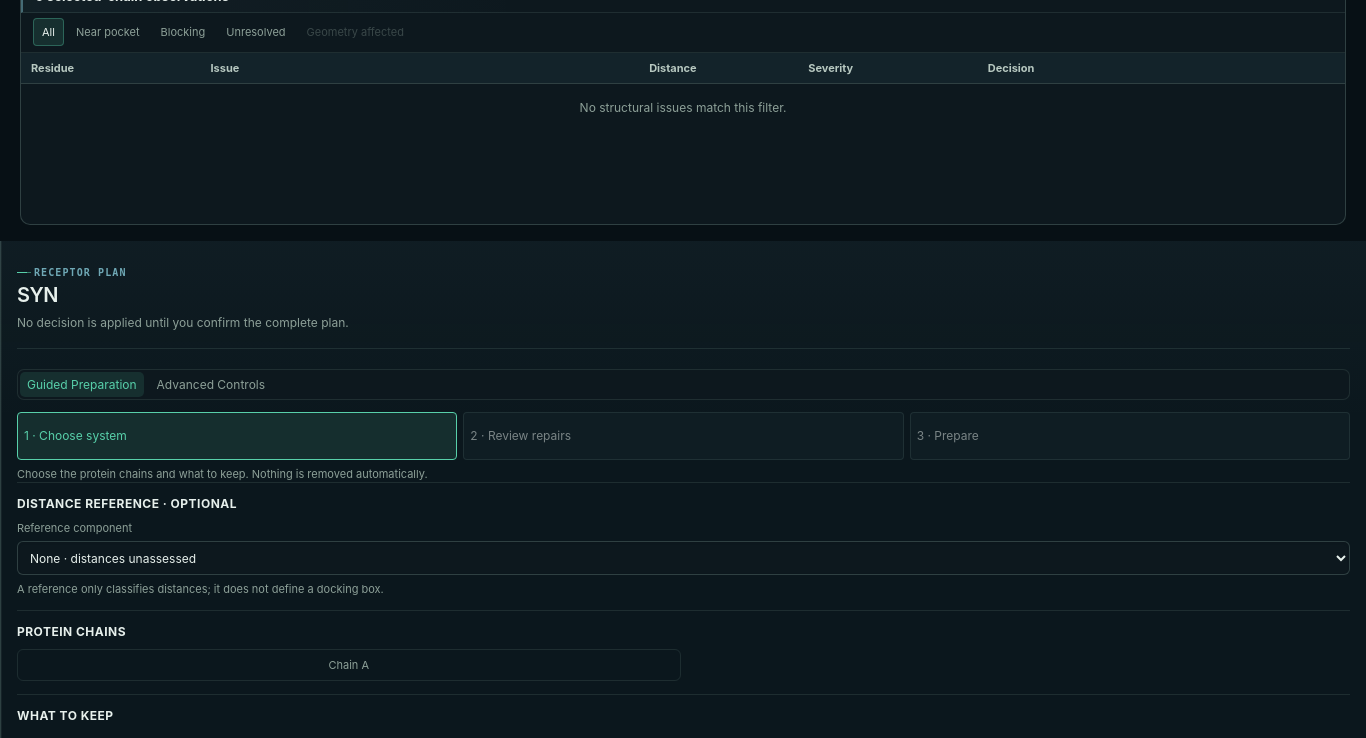
Test: explains incompatible observed anchors without offering clash relief as a bond repair
(page scrolled)
Click the button "Advanced controls" at (211, 384), box [150,372,272,397]
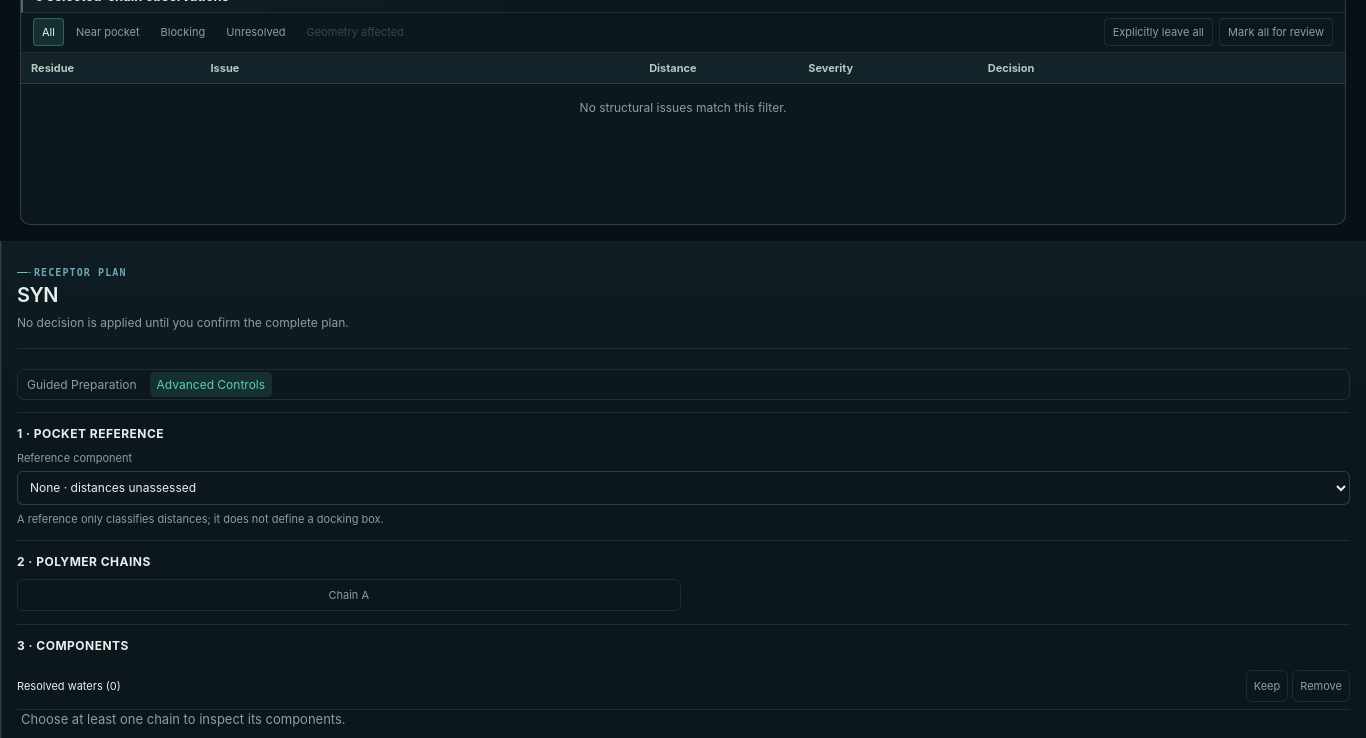
Click the button "Chain A" at (349, 595), box [17,579,680,611]
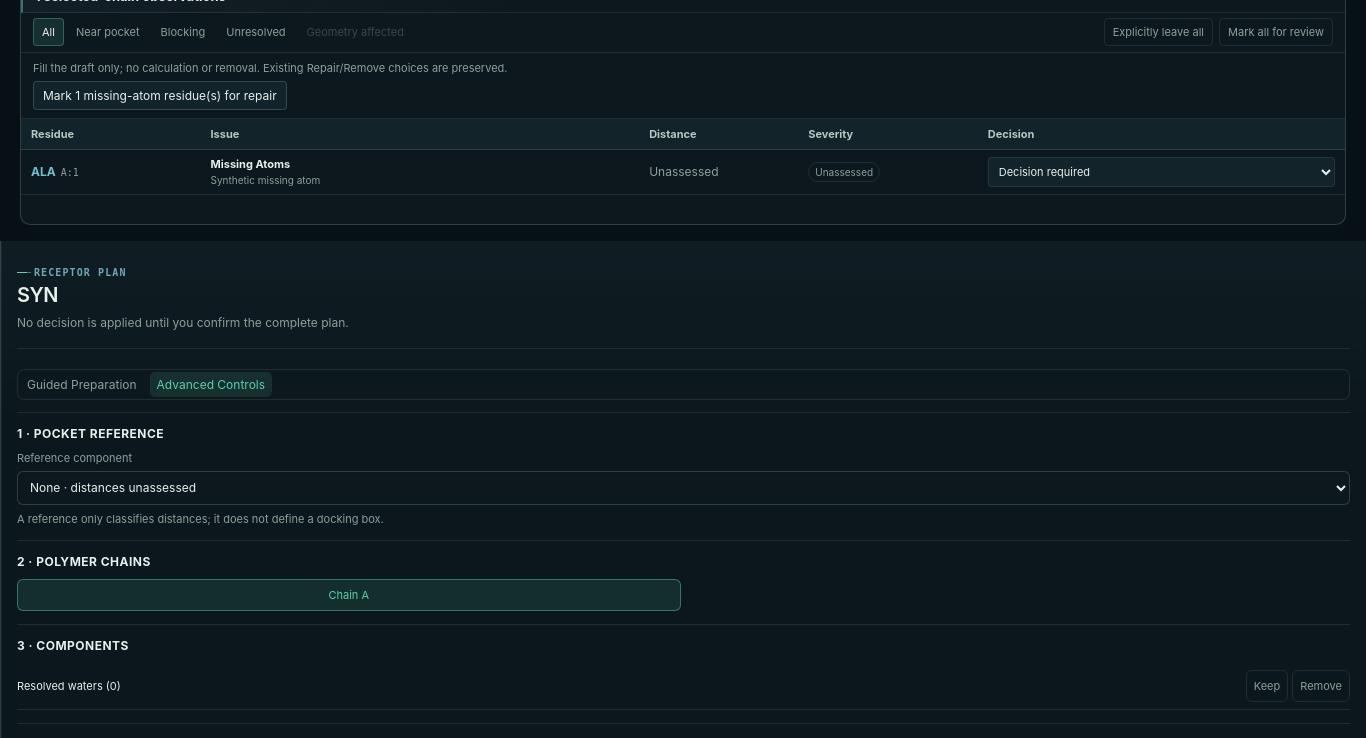
Click the button "Remove" at (1321, 686), box [1292,670,1350,702]
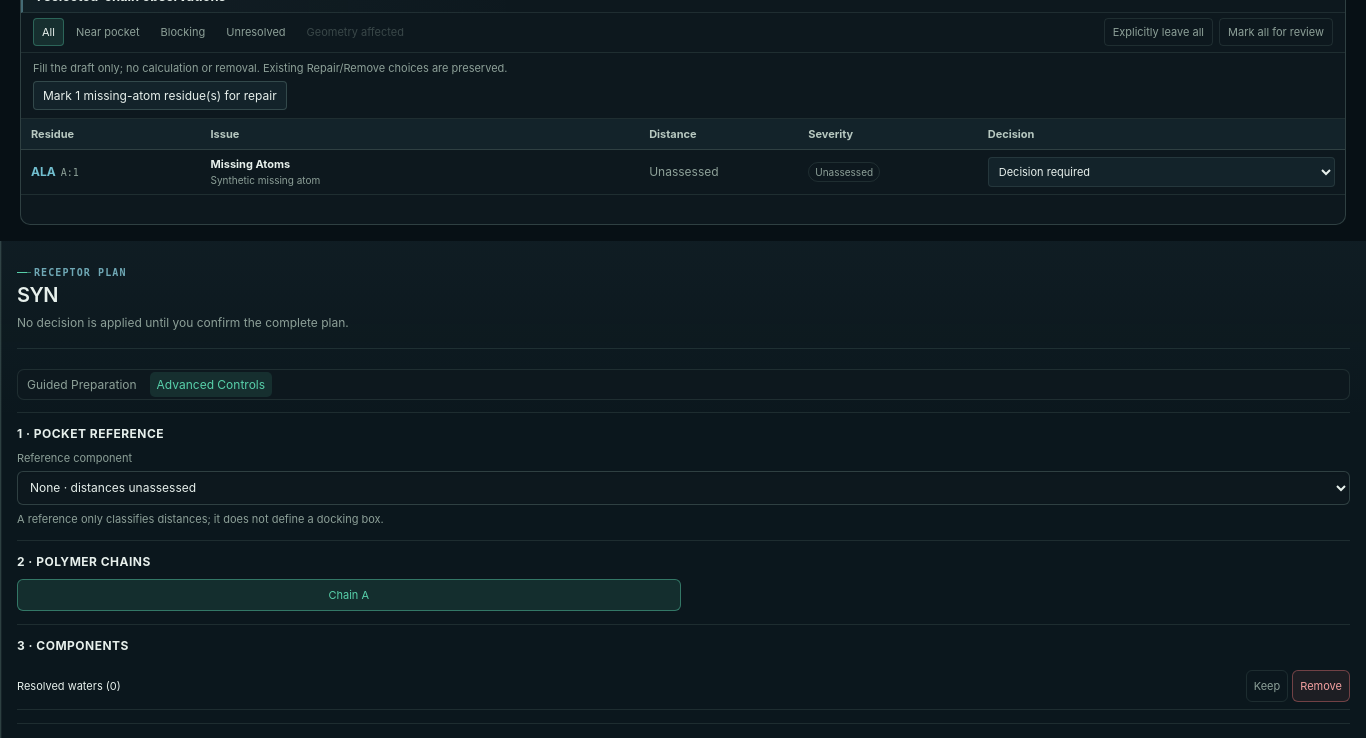
Select "Repair with PDBFixer" in the dropdown named "Decision for ALA 1" at (1161, 172), box [988,156,1335,186]
(page scrolled)
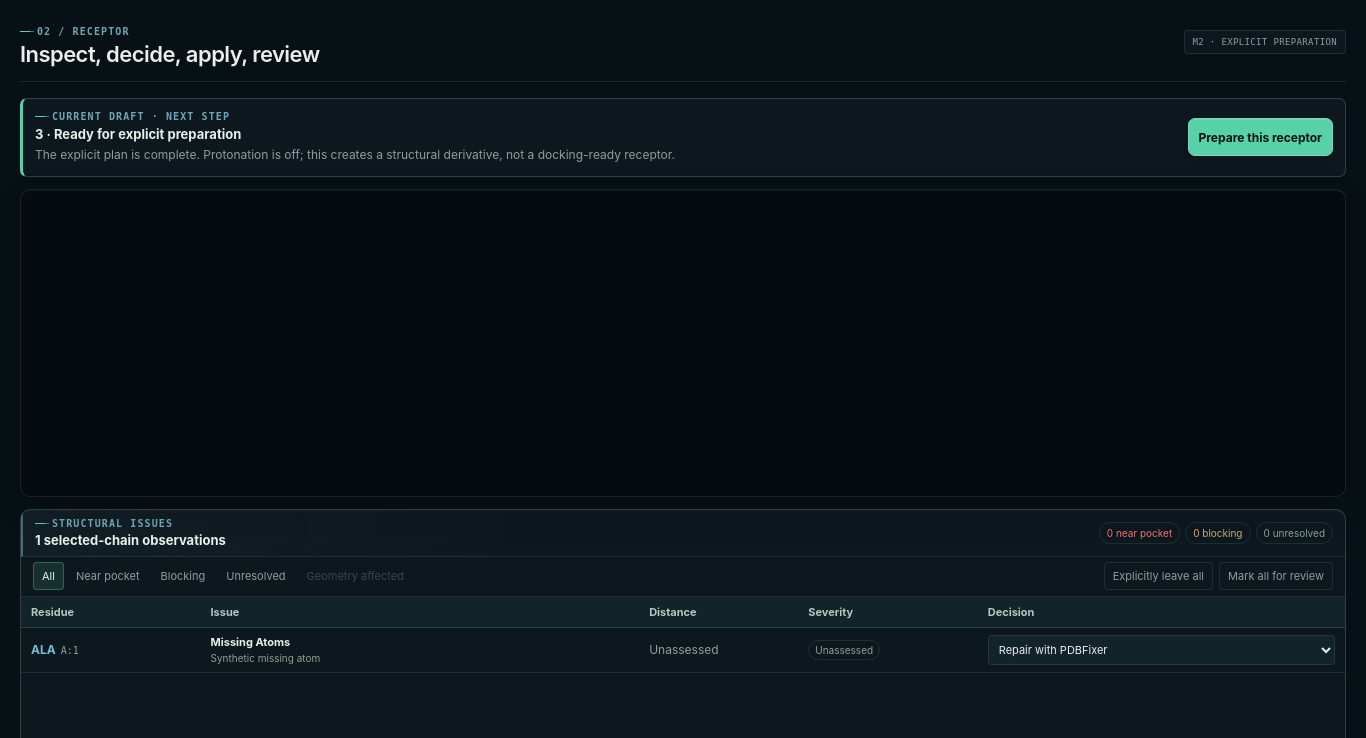
Click the button "Prepare this receptor" at (1260, 137), box [1188,118,1333,156]
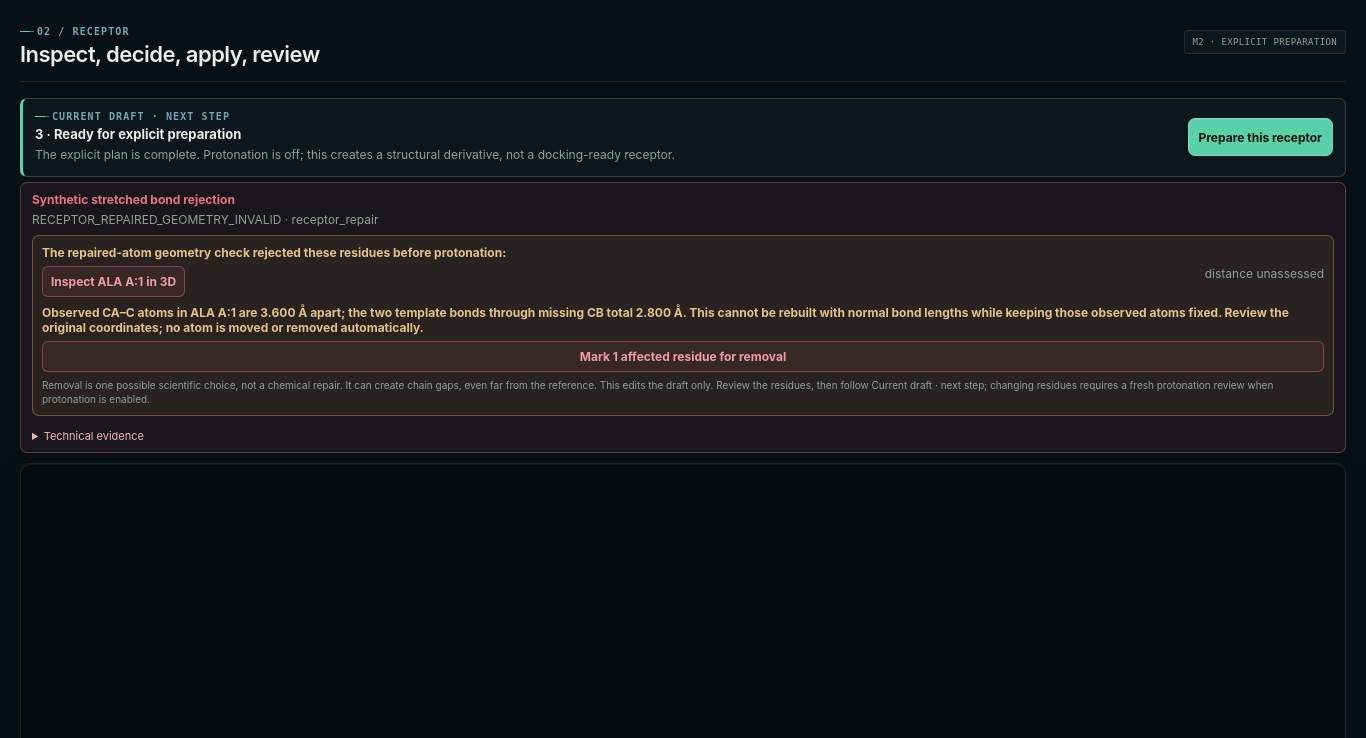
Expected: the text "are 3.600 Å apart" shows "total 2.800 Å", [42,304,1324,334]
Expected: the button "Inspect ALA A:1 in 3D" is shown, [42,266,185,296]
